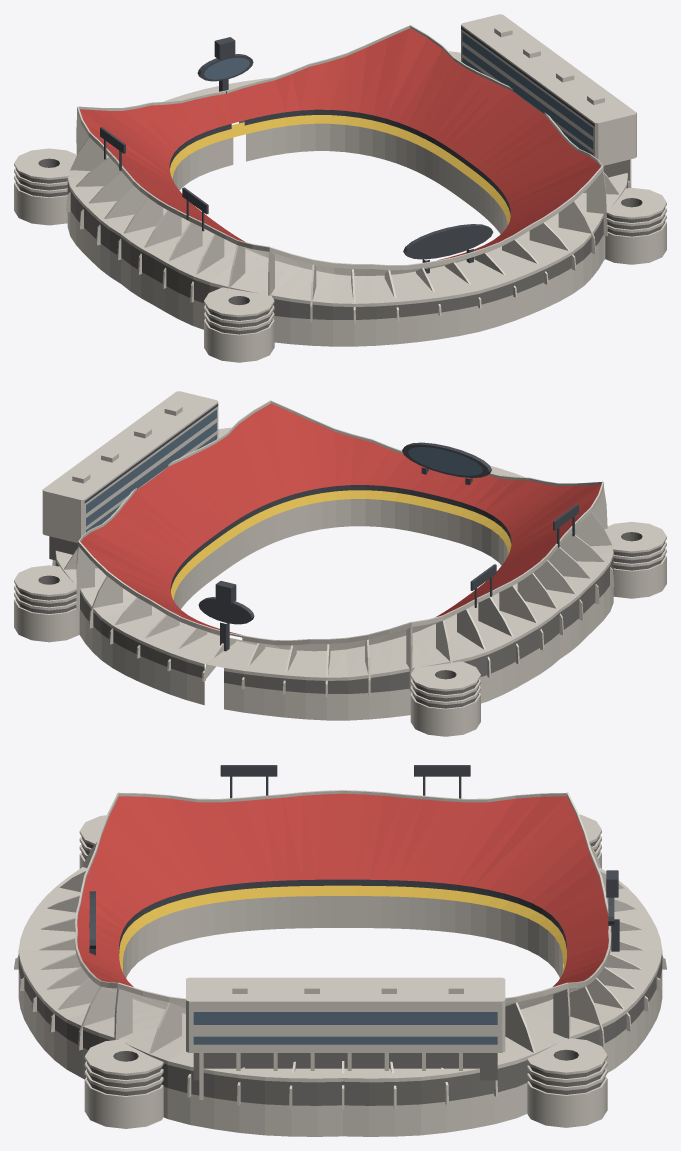
File: kc-arrowhead-stadium.glb
3 renders of one model, top to bottom at view 1: azimuth 30°, elevation 25°; view 2: azimuth 150°, elevation 25°; view 3: azimuth 270°, elevation 25°, orthographic. The views are drawn at different scales.
Visible parts, largest first — view 1: GEHA Field at Arrowhead Stadium; view 2: GEHA Field at Arrowhead Stadium; view 3: GEHA Field at Arrowhead Stadium.
Boxes of the visible parts, x1,y1,x2,y2 form: GEHA Field at Arrowhead Stadium: [14, 14, 666, 362]; GEHA Field at Arrowhead Stadium: [14, 391, 666, 736]; GEHA Field at Arrowhead Stadium: [14, 765, 666, 1136].
Size of the model in its own units: 249 by 57.2 by 254.
